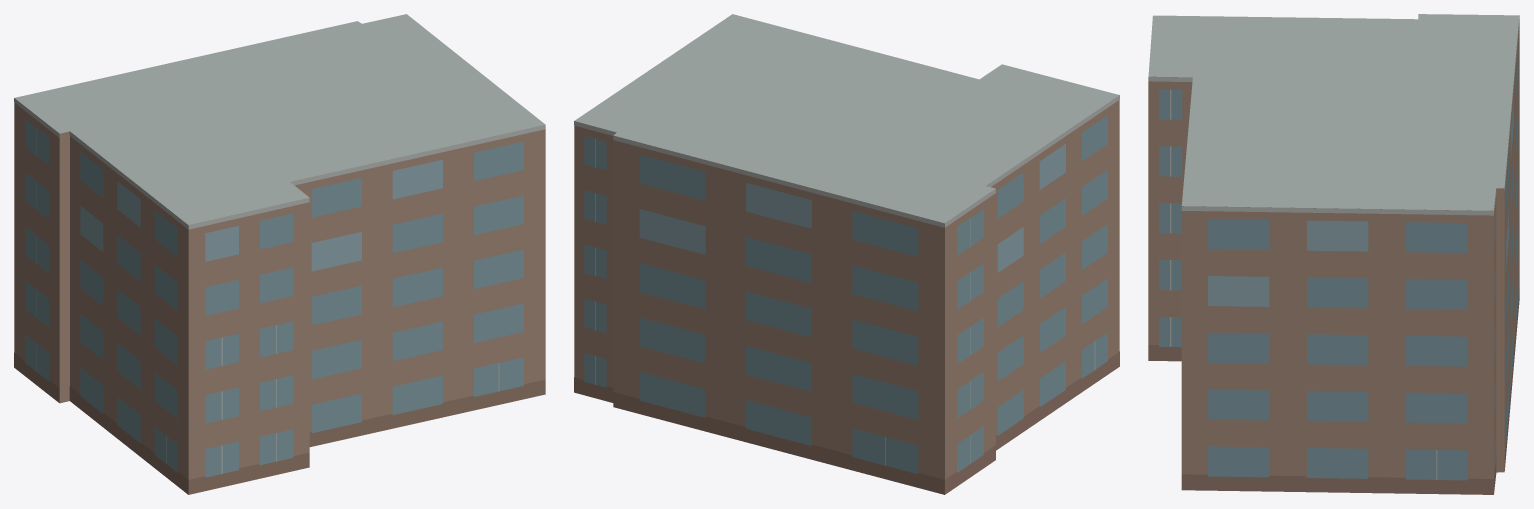
File: survey-upis-32565418.glb
3 views of the same model, side by side, from view 1: azimuth 30°, elevation 25°; view 2: azimuth 150°, elevation 25°; view 3: azimuth 270°, elevation 25° (orthographic). The views are drawn at different scales.
Parts seen in each view (by area): view 1: survey-upis-32565418.tmp; view 2: survey-upis-32565418.tmp; view 3: survey-upis-32565418.tmp.
Part boxes in pixels (box(x1,y1,x2,y2)): survey-upis-32565418.tmp: box(14, 14, 545, 494); survey-upis-32565418.tmp: box(574, 14, 1119, 494); survey-upis-32565418.tmp: box(1148, 14, 1519, 494).
Bounding box in the file's own units: 21.7 × 14.6 × 17.29.
